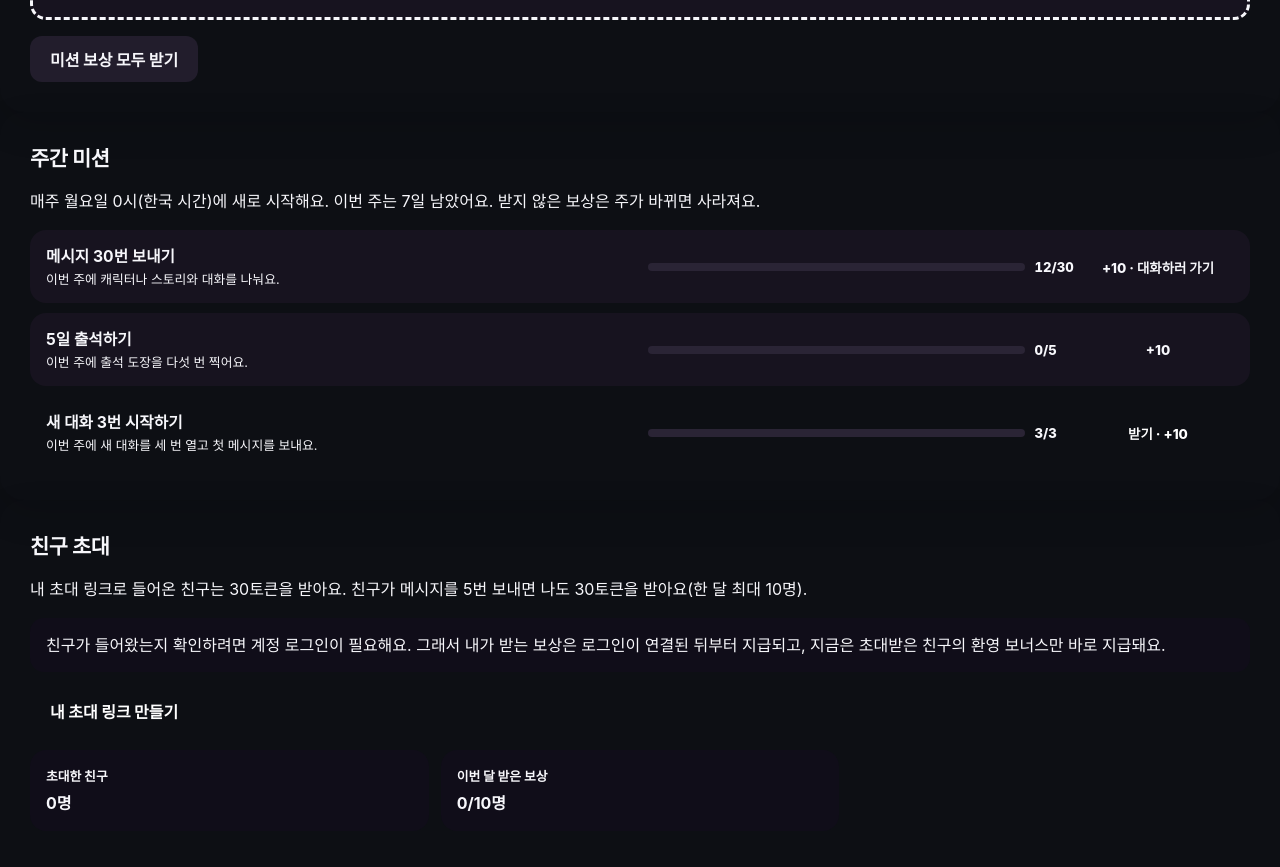
Scenario: 주간 미션 화면 › 목표를 채운 주간 미션은 받기 버튼이 나오고, 받으면 토큰이 늘며 받음으로 바뀐다
(page scrolled)
Click the button with aria-label "새 대화 3번 시작하기 보상 10토큰 받기" at [1158, 433], box [1082, 413, 1234, 453]
(page scrolled)
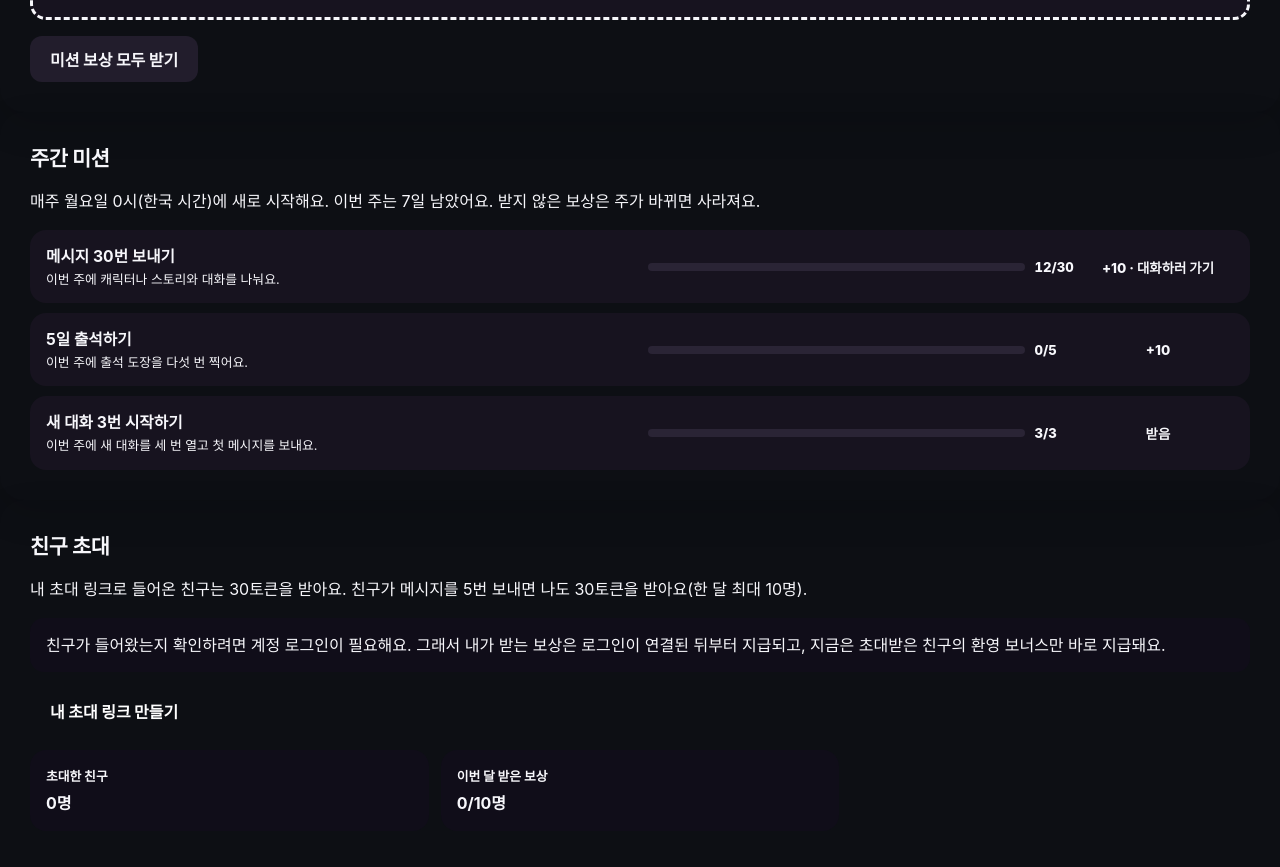
Result: the list item "새 대화 3번 시작하기 이번 주에 새 대화를 세 번 열고 첫 메시지를 보내요. 3/3 받음" is shown at [30, 396, 1250, 470]
